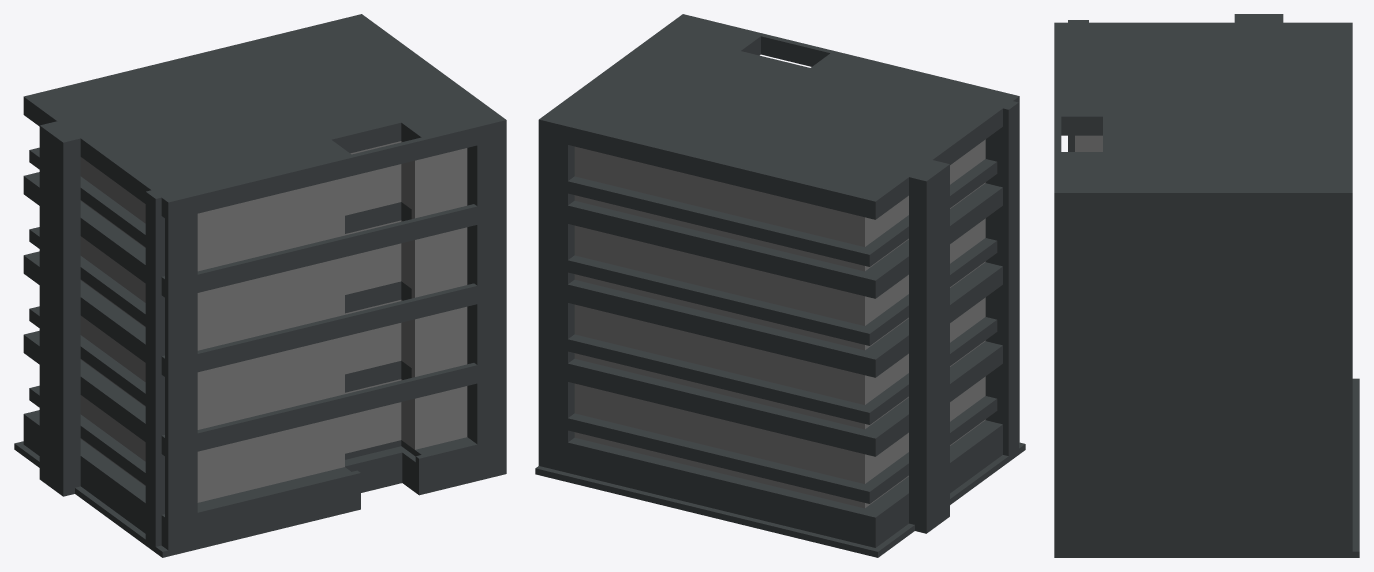
The model's file is Building006(1).obj.
3 renders of one model, left to right at view 1: azimuth 30°, elevation 25°; view 2: azimuth 150°, elevation 25°; view 3: azimuth 270°, elevation 25°, orthographic. The views are drawn at different scales.
Size of the model in its own units: 6.1 by 5.8 by 4.4.
Materials: 1 (1 with a texture image).
